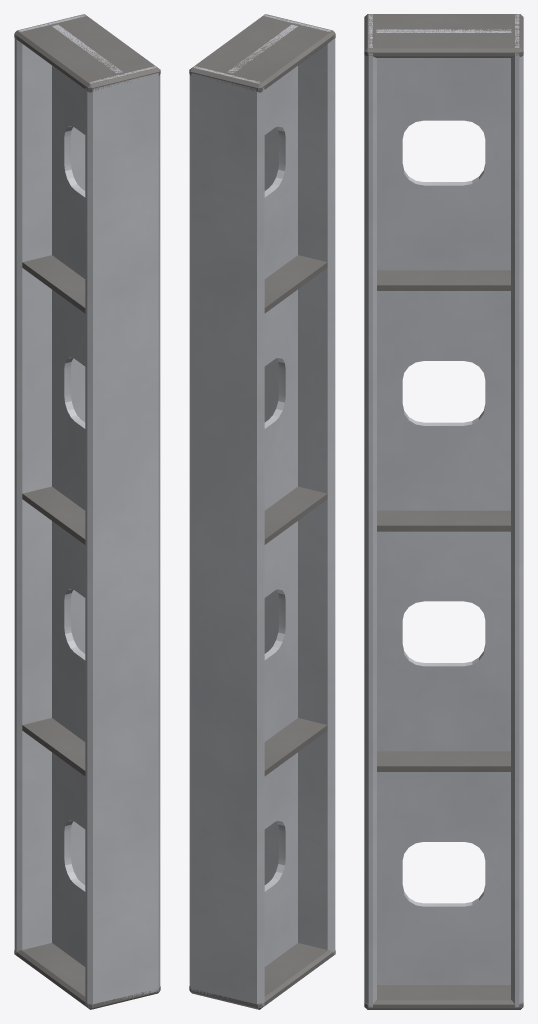
Rendered from ax_gear_11_i_beam_s.glb.
The picture shows the model from 3 angles, left to right: view 1: azimuth 30°, elevation 25°; view 2: azimuth 150°, elevation 25°; view 3: azimuth 270°, elevation 25°; orthographic projection. The views are drawn at different scales.
Parts seen in each view (by area): view 1: flanges, web, end_plates, stiffeners; view 2: flanges, web, end_plates, stiffeners; view 3: web, flanges, end_plates, stiffeners.
Part boxes in pixels (x1=…): flanges: x1=14, y1=14, x2=160, y2=1005; web: x1=52, y1=24, x2=122, y2=966; end_plates: x1=14, y1=14, x2=160, y2=1009; stiffeners: x1=22, y1=255, x2=85, y2=776; flanges: x1=189, y1=14, x2=335, y2=1005; web: x1=227, y1=24, x2=297, y2=966; end_plates: x1=189, y1=14, x2=335, y2=1009; stiffeners: x1=264, y1=255, x2=327, y2=776; web: x1=376, y1=29, x2=511, y2=984; flanges: x1=364, y1=14, x2=523, y2=1007; end_plates: x1=364, y1=14, x2=523, y2=1009; stiffeners: x1=377, y1=270, x2=510, y2=771.
Bounding box in the file's own units: 0.165 × 2 × 0.3.
2 materials, 2 textured.
